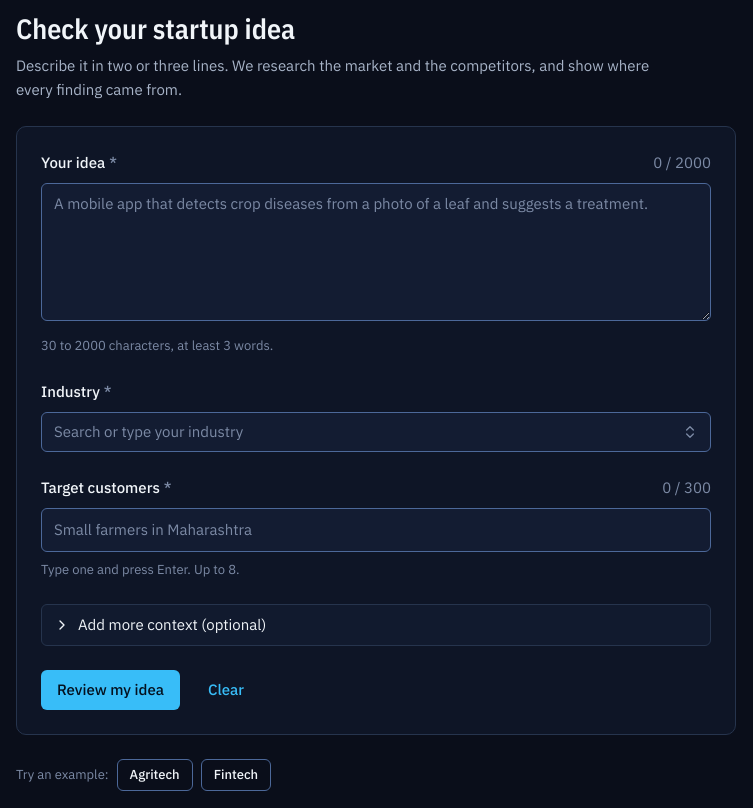
Test: New validation: the form › counts the characters as they are typed
Step 1. Type "Hello" into the text box labelled "Your idea*" → (376,252), box top-left (41, 183), bottom-right (711, 321)
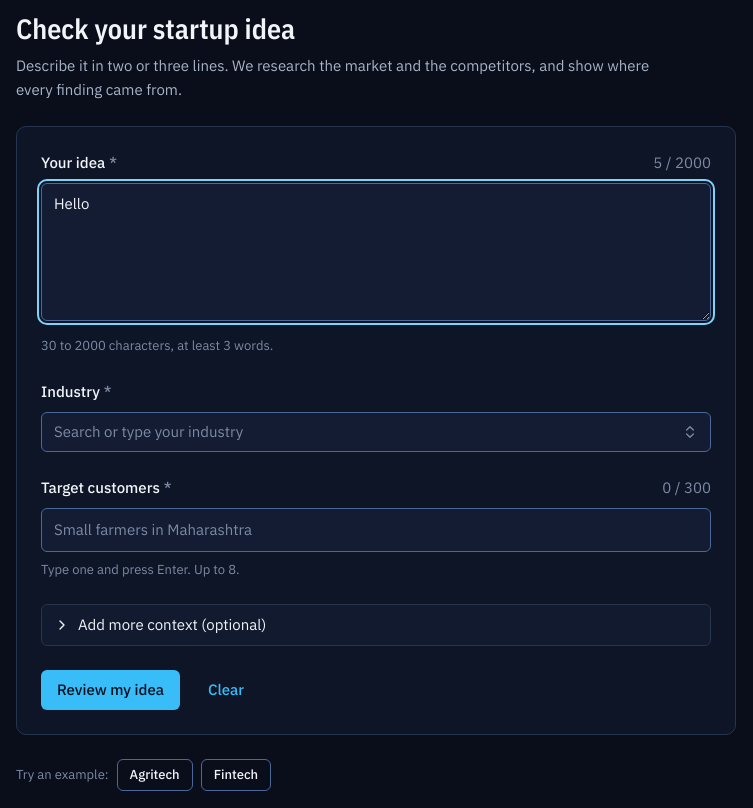
Check: the text "5 / 2000" is shown, box top-left (653, 151), bottom-right (711, 175)
